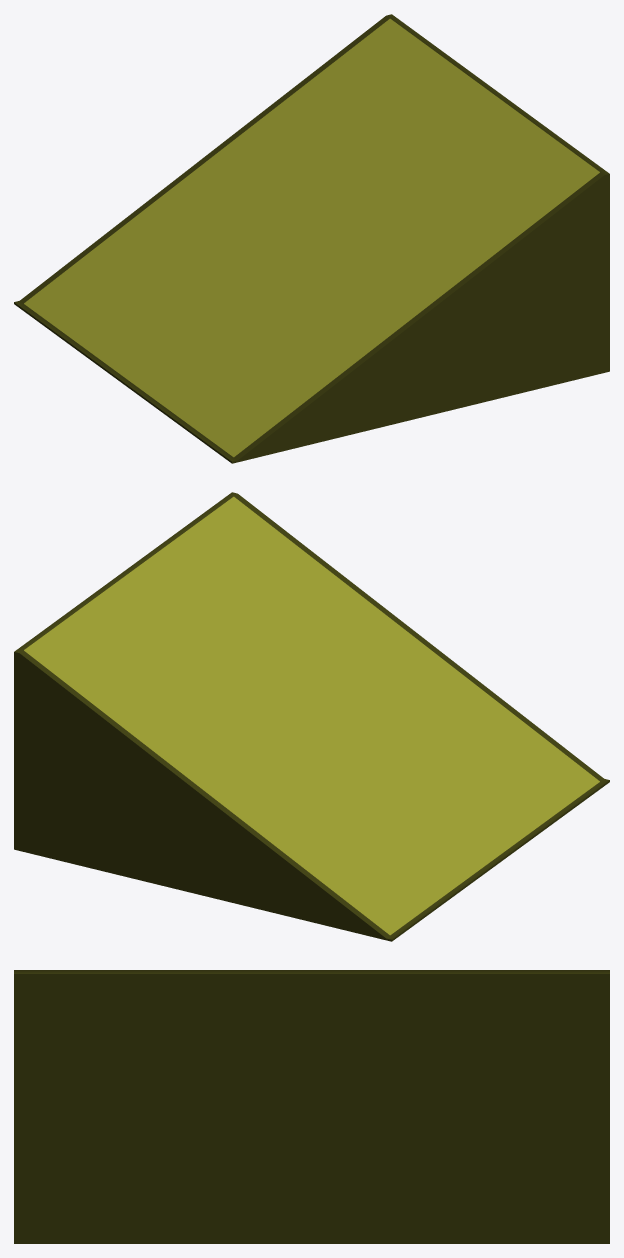
File: Casilla 46.fbx
3 renders of one model, top to bottom at view 1: azimuth 30°, elevation 25°; view 2: azimuth 150°, elevation 25°; view 3: azimuth 270°, elevation 25°, orthographic. The views are drawn at different scales.
Parts seen in each view (by area): view 1: pCube2; view 2: pCube2; view 3: pCube2.
Part boxes in pixels (<box>): pCube2: <box>14,14,609,463</box>; pCube2: <box>14,492,609,941</box>; pCube2: <box>14,970,609,1243</box>.
Bounding box in the file's own units: 200 × 100 × 200.
